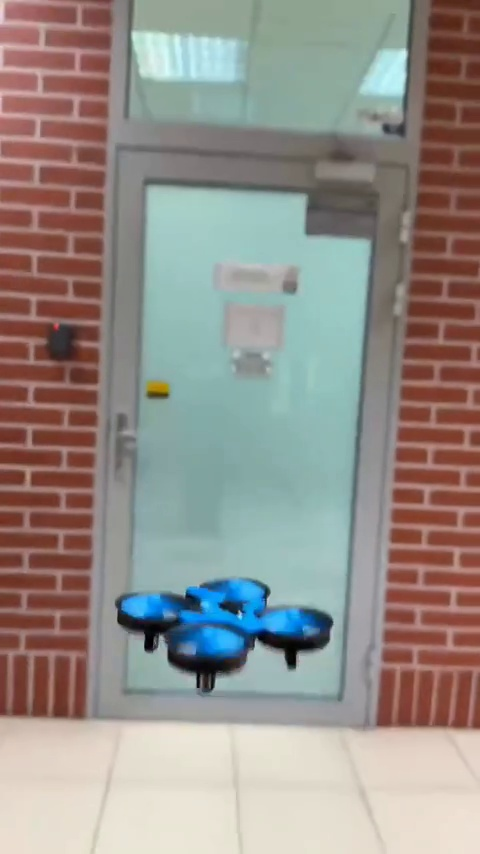drone: (111, 578, 337, 691)
